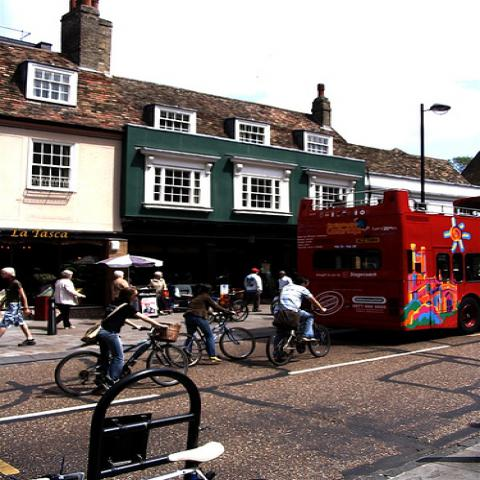bus: (300, 193, 478, 338)
